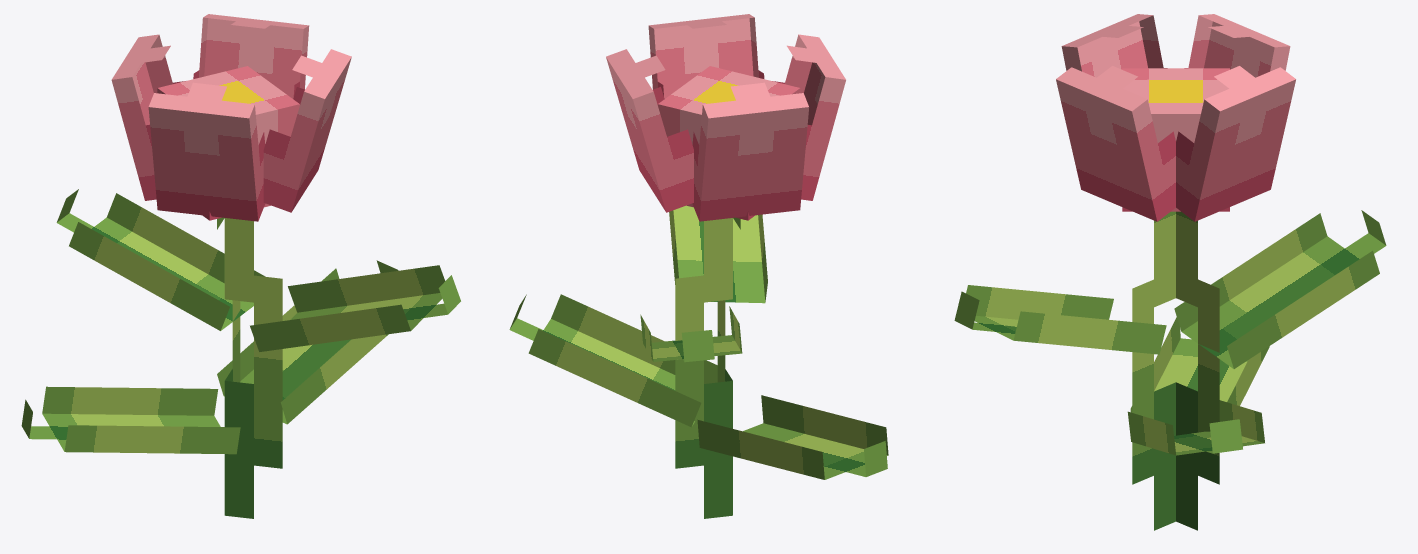
The model's file is peony-stage4.gltf.
The picture shows the model from 3 angles, left to right: view 1: azimuth 30°, elevation 25°; view 2: azimuth 150°, elevation 25°; view 3: azimuth 270°, elevation 25°; orthographic projection. The views are drawn at different scales.
Parts seen in each view (by area): view 1: cube (×11); view 2: cube (×11); view 3: cube (×11).
Part boxes in pixels (box(x1,y1,x2,y2)): cube (×11): box(21, 14, 460, 518); cube (×11): box(509, 14, 888, 518); cube (×11): box(954, 14, 1386, 530).
Bounding box in the file's own units: 0.9368 × 1.06 × 0.9478.
Materials: 1 (1 with a texture image).
